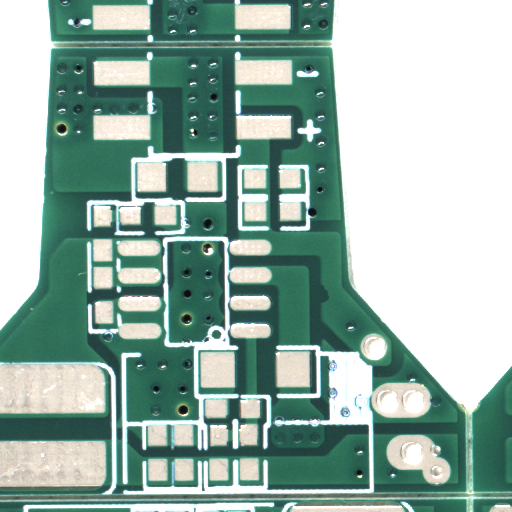Mouse_bite: (323, 295, 334, 316)
